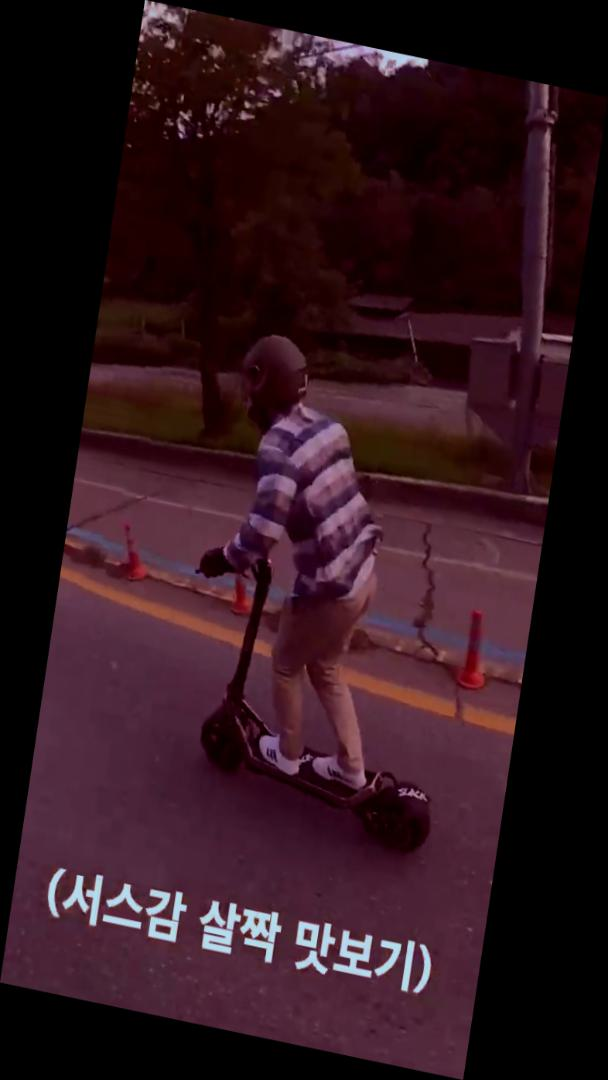helmet: (155, 319, 500, 864)
